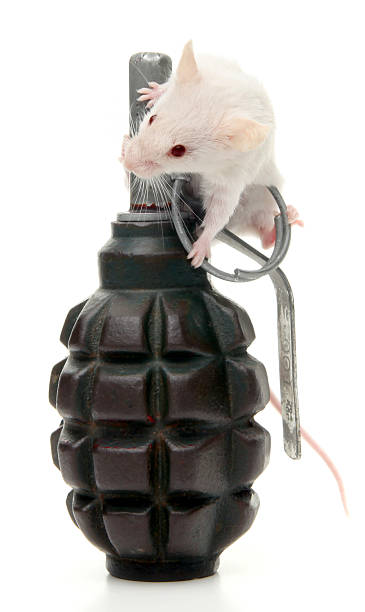e1: (48, 53, 298, 574)
